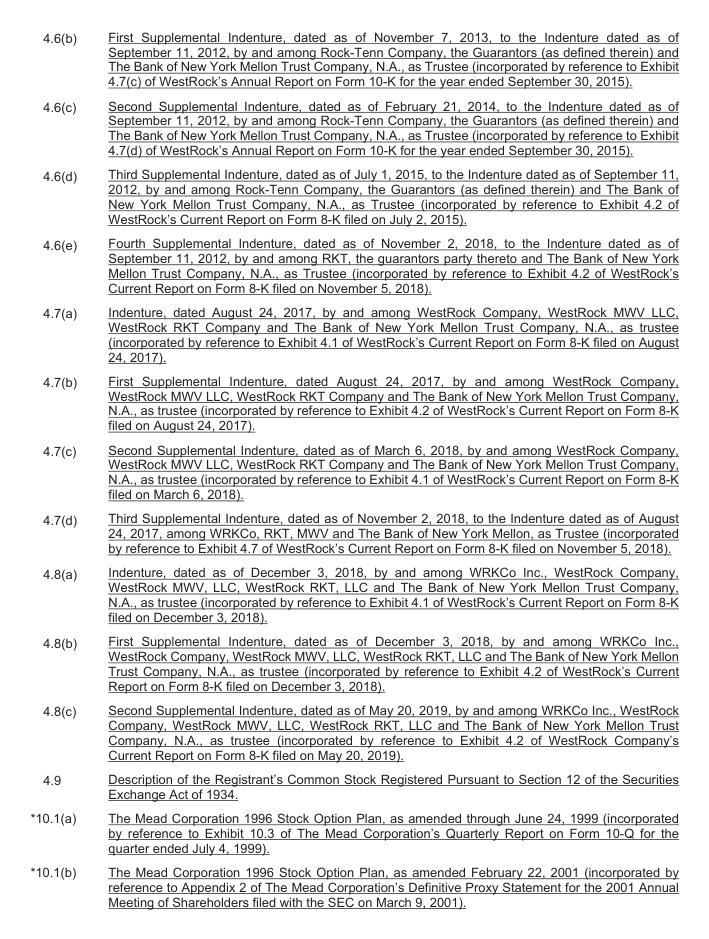table: (29, 29, 678, 908)
table column: (91, 29, 678, 908), (29, 29, 91, 908)
table row: (29, 92, 678, 161), (29, 161, 678, 230), (29, 230, 678, 299), (29, 299, 678, 368), (29, 436, 678, 505), (29, 559, 678, 628), (29, 628, 678, 697), (29, 697, 678, 766), (29, 368, 678, 436), (29, 29, 678, 92), (29, 505, 678, 559), (29, 805, 678, 859), (29, 859, 678, 908), (29, 766, 678, 805)
